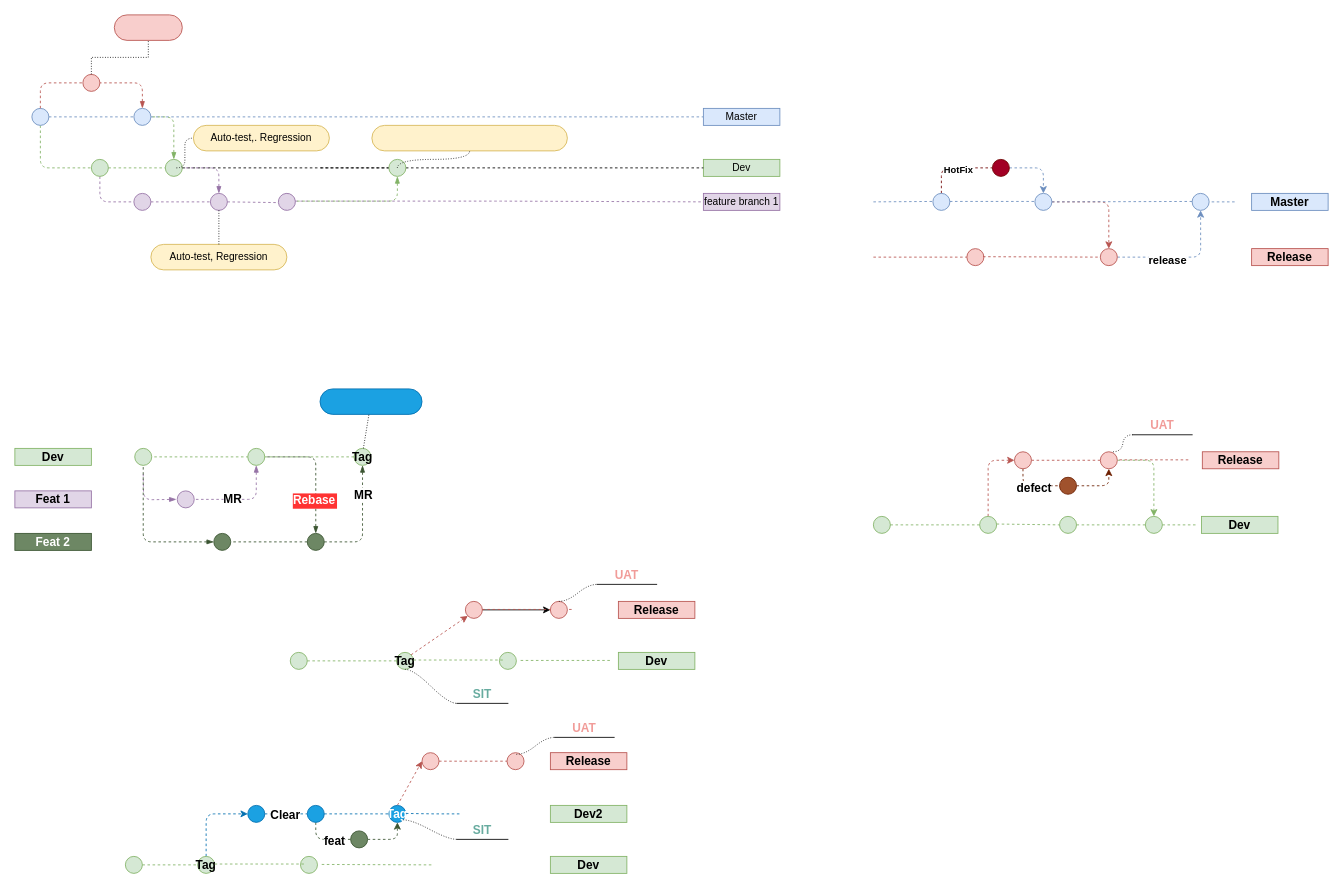
Some shapes in this 1343 by 888 pixel diagram are drawn without their labels. The shapes that lost their labels are listed below. From the top down, each one's box as (x1, y1, x2, y2) in pixels, then its label:
(113, 14, 182, 40): BugFix
(371, 125, 567, 151): Auto-test, Regression, Peer review
(319, 388, 422, 414): Daily build
